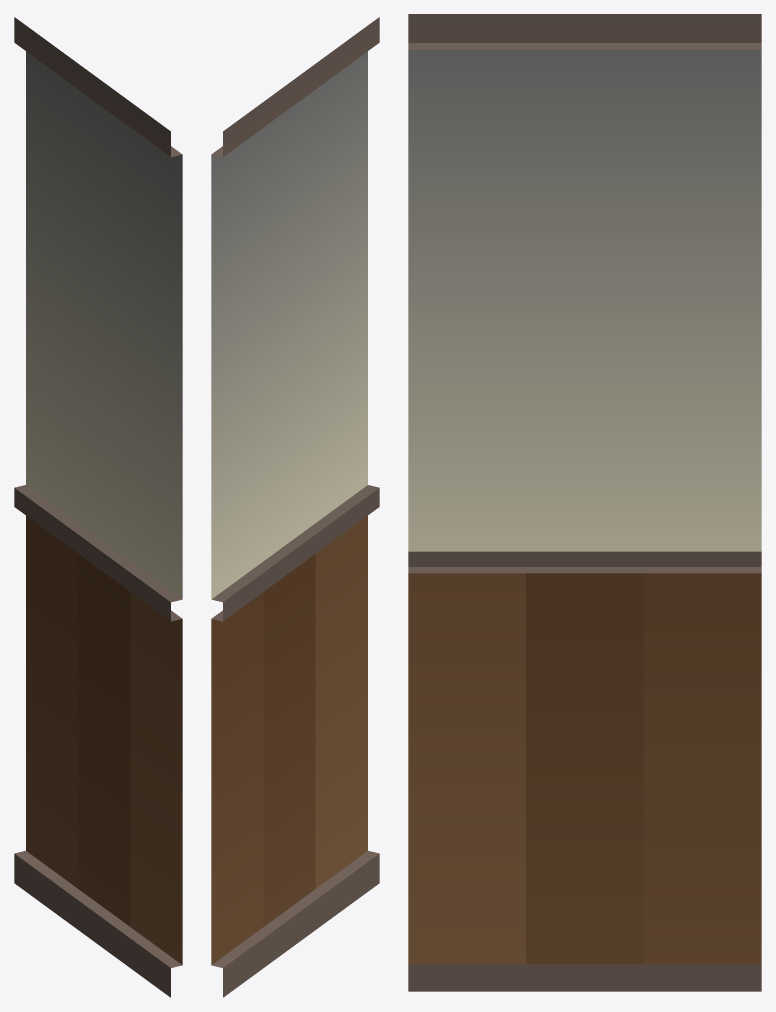
The model's file is B01_wall_2.fbx.
The picture shows the model from 3 angles, left to right: view 1: azimuth 30°, elevation 25°; view 2: azimuth 150°, elevation 25°; view 3: azimuth 270°, elevation 25°; orthographic projection. The views are drawn at different scales.
Parts seen in each view (by area): view 1: B01_wall_2; view 2: B01_wall_2; view 3: B01_wall_2.
Boxes of the visible parts, left/top/right/bottom form: B01_wall_2: left=14, top=17, right=182, bottom=997; B01_wall_2: left=211, top=17, right=379, bottom=997; B01_wall_2: left=408, top=14, right=761, bottom=991.
Bounding box in the file's own units: 4.27 × 305 × 100.
